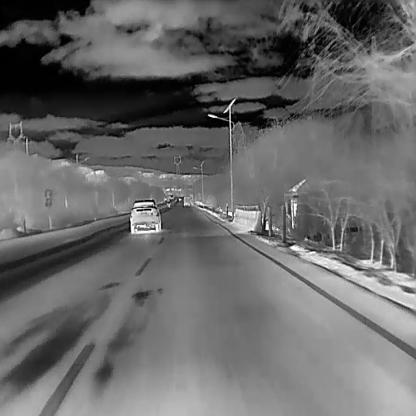bus: (182, 194, 191, 207), (168, 192, 173, 200)
car: (129, 196, 162, 234), (178, 196, 182, 201)
